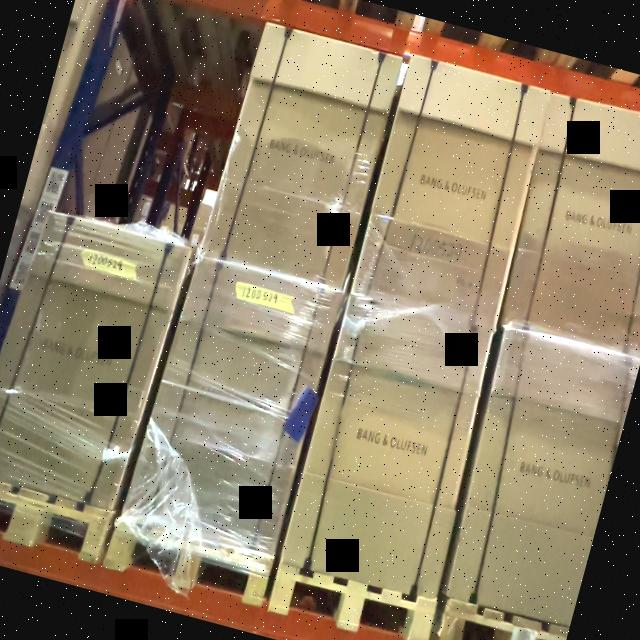box: (284, 286, 506, 595), (122, 254, 342, 558), (0, 207, 182, 513), (450, 330, 640, 620), (202, 23, 406, 288), (352, 61, 547, 324), (492, 92, 640, 366)
